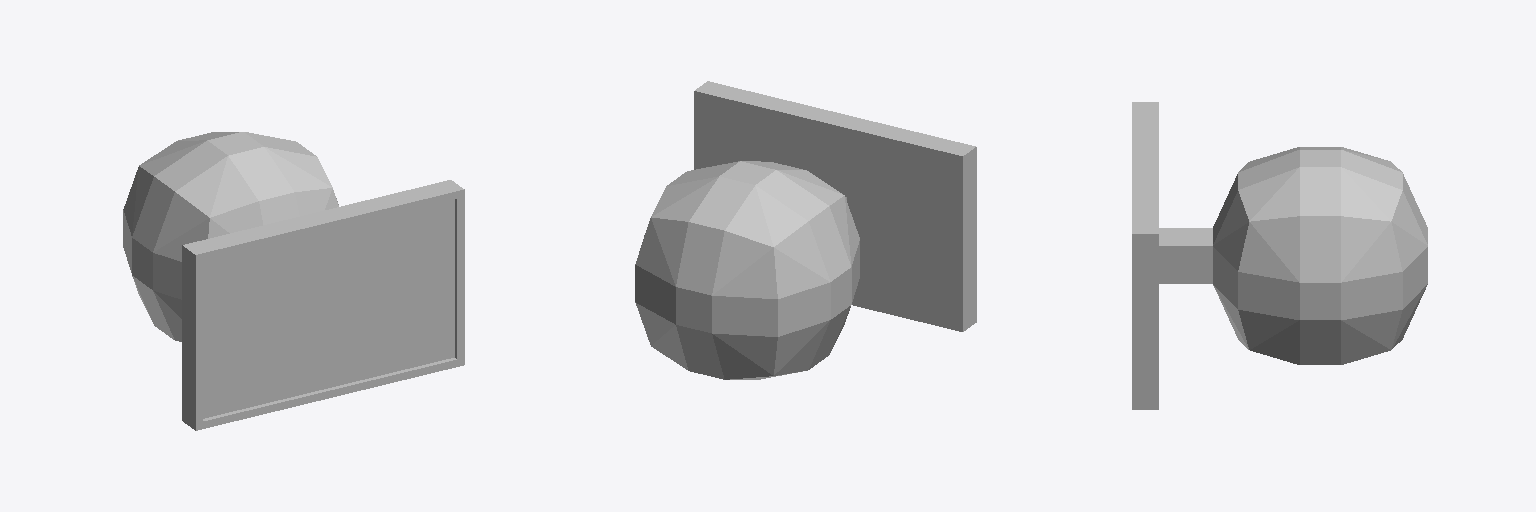
File: RobotMonitor.obj
The picture shows the model from 3 angles: view 1: azimuth 30°, elevation 25°; view 2: azimuth 150°, elevation 25°; view 3: azimuth 270°, elevation 25°; orthographic projection.
Parts seen in each view (by area): view 1: Cube.001; view 2: Cube.001; view 3: Cube.001.
Boxes of the visible parts, <box> form: Cube.001: <box>123,132,464,430</box>; Cube.001: <box>635,81,976,379</box>; Cube.001: <box>1132,102,1427,409</box>.
Bounding box in the file's own units: 2.88 × 2 × 2.75.